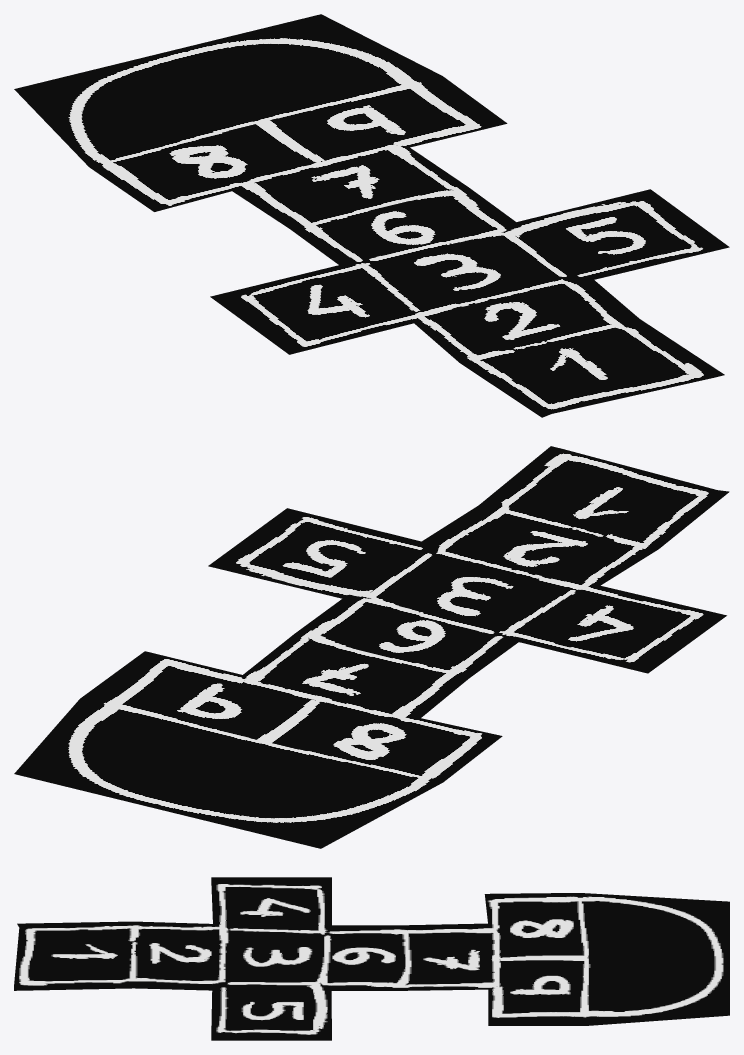
The model's file is hopscotch.FBX.
3 renders of one model, top to bottom at view 1: azimuth 30°, elevation 25°; view 2: azimuth 150°, elevation 25°; view 3: azimuth 270°, elevation 25°, orthographic. The views are drawn at different scales.
Parts seen in each view (by area): view 1: hs_end, hs_1, hs_5, hs_9, hs_4, hs_3, hs_2, hs_7, hs_8, hs_6; view 2: hs_end, hs_1, hs_5, hs_9, hs_4, hs_3, hs_2, hs_7, hs_8, hs_6; view 3: hs_end, hs_1, hs_5, hs_9, hs_4, hs_3, hs_2, hs_7, hs_8, hs_6.
Part boxes in pixels (x1,y1,x2,y2): hs_end: (14, 14, 441, 166); hs_1: (460, 319, 724, 417); hs_5: (504, 189, 729, 279); hs_9: (261, 76, 507, 164); hs_4: (210, 261, 418, 354); hs_3: (357, 225, 574, 315); hs_2: (402, 274, 639, 362); hs_7: (232, 146, 468, 228); hs_8: (89, 123, 318, 211); hs_6: (289, 187, 515, 264); hs_end: (14, 699, 442, 848); hs_1: (479, 446, 729, 548); hs_5: (208, 508, 425, 601); hs_9: (80, 651, 323, 741); hs_4: (501, 585, 726, 673); hs_3: (355, 549, 582, 637); hs_2: (414, 505, 658, 591); hs_7: (243, 633, 468, 718); hs_8: (267, 699, 502, 782); hs_6: (295, 599, 518, 678); hs_end: (579, 893, 729, 1025); hs_1: (14, 921, 133, 990); hs_5: (211, 986, 331, 1040); hs_9: (488, 957, 587, 1025); hs_4: (211, 877, 331, 931); hs_3: (223, 928, 331, 986); hs_2: (133, 921, 222, 990); hs_7: (403, 923, 495, 990); hs_8: (484, 893, 583, 957); hs_6: (331, 925, 407, 990).
Size of the model in its own units: 38.31 by 6e-06 by 70.88.
